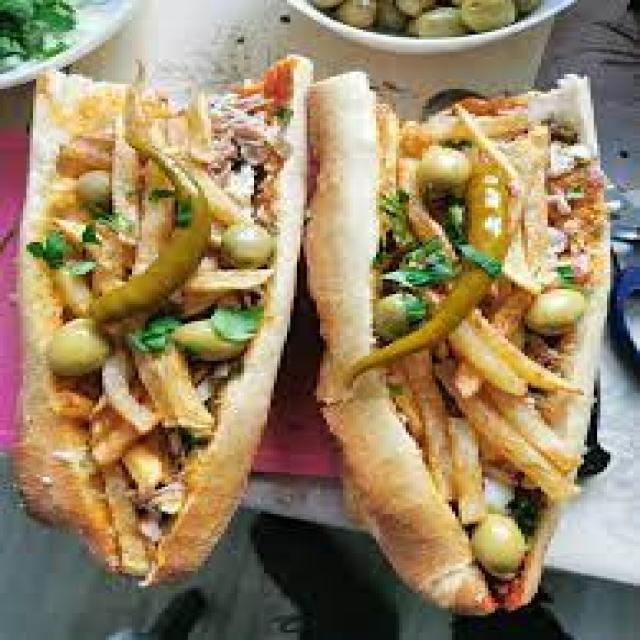Sandwitch tounsi: (347, 62, 618, 627), (11, 61, 308, 574)
